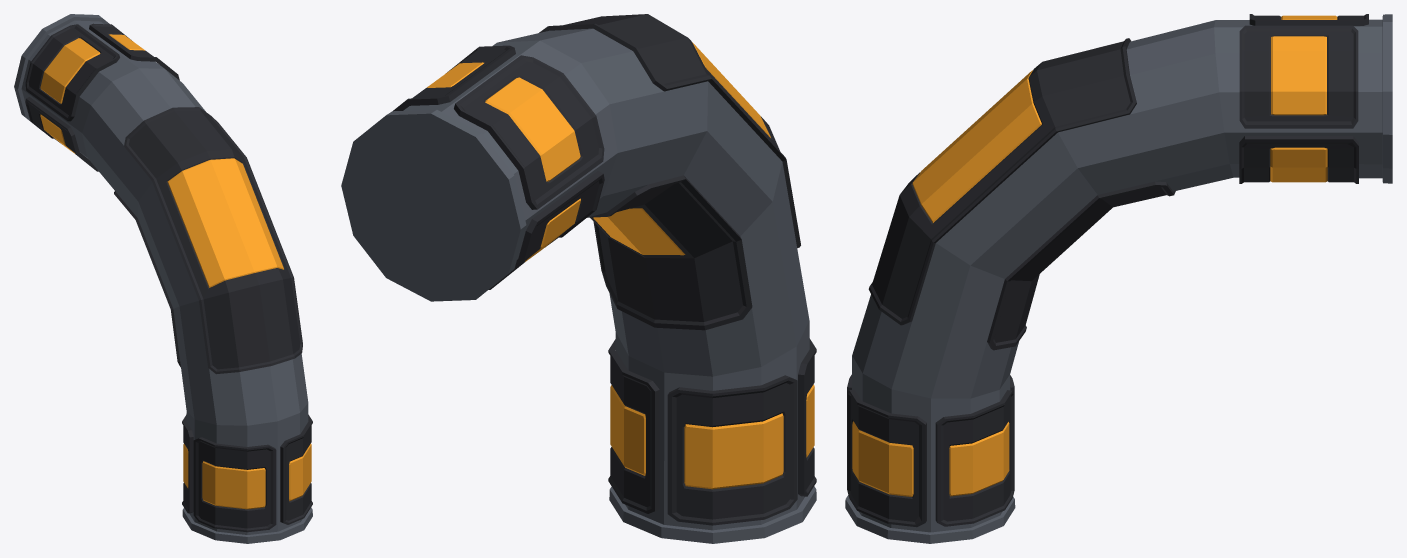
Rendered from SM_The_rotary_section_of_the_pipe.glb.
The picture shows the model from 3 angles, left to right: view 1: azimuth 30°, elevation 25°; view 2: azimuth 150°, elevation 25°; view 3: azimuth 270°, elevation 25°; orthographic projection. The views are drawn at different scales.
Visible parts, largest first — view 1: SM_The_rotary_section_of_the_pipe; view 2: SM_The_rotary_section_of_the_pipe; view 3: SM_The_rotary_section_of_the_pipe.
Boxes of the visible parts, bbox=[...] form: SM_The_rotary_section_of_the_pipe: bbox=[14, 14, 312, 543]; SM_The_rotary_section_of_the_pipe: bbox=[341, 14, 816, 543]; SM_The_rotary_section_of_the_pipe: bbox=[845, 14, 1392, 543].
Bounding box in the file's own units: 0.6403 × 2.02 × 2.06.
Materials: 1 (1 with a texture image).
